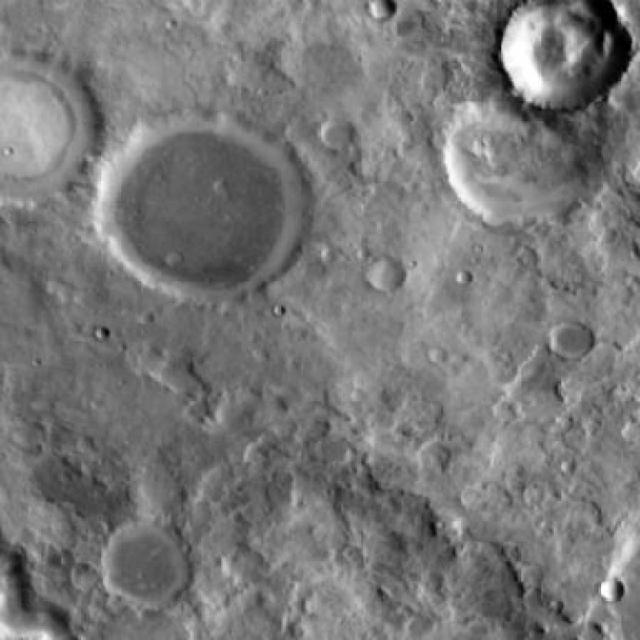crater: (82, 106, 298, 305), (430, 82, 592, 232), (0, 41, 92, 207), (506, 0, 640, 106), (87, 522, 188, 615), (553, 321, 595, 356), (369, 257, 406, 291), (323, 122, 355, 150), (61, 566, 90, 592), (597, 572, 625, 598), (371, 0, 395, 17)
